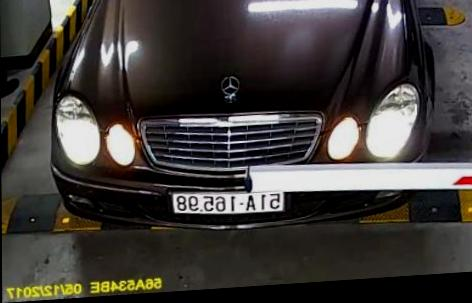License_Plate: (170, 186, 285, 223)
